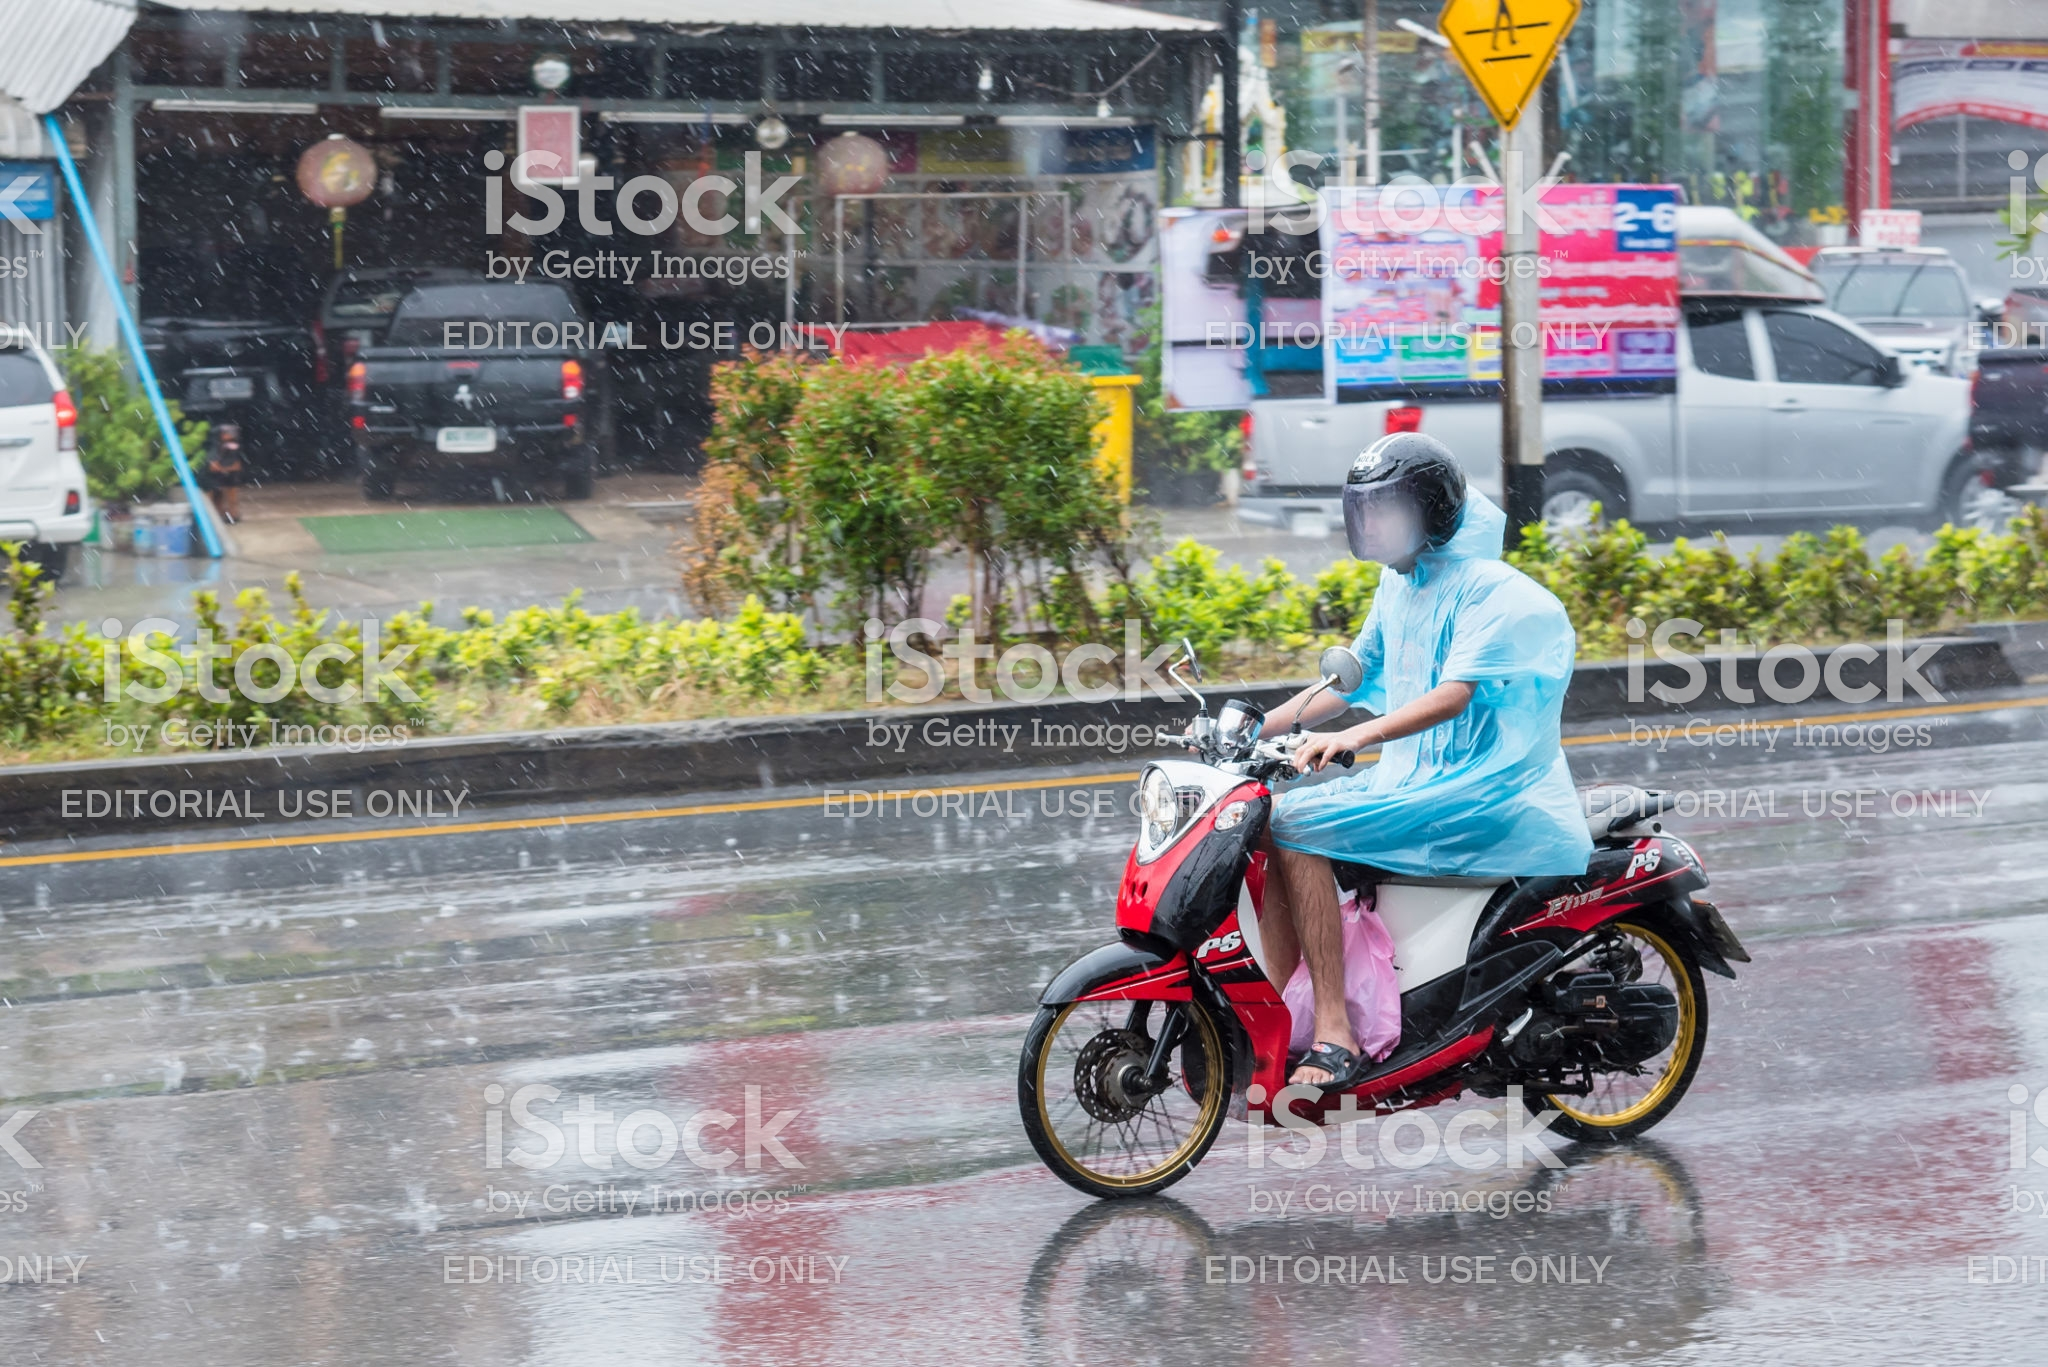helmet: (1343, 433, 1478, 561)
